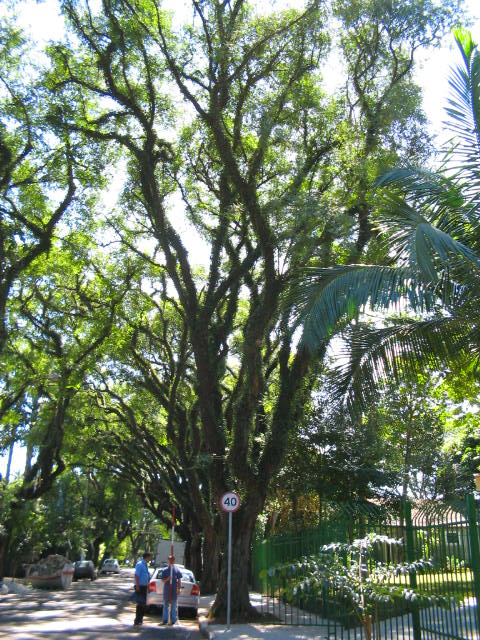stem: (210, 520, 263, 624)
stick: (159, 505, 181, 623)
tree: (45, 2, 467, 626)
